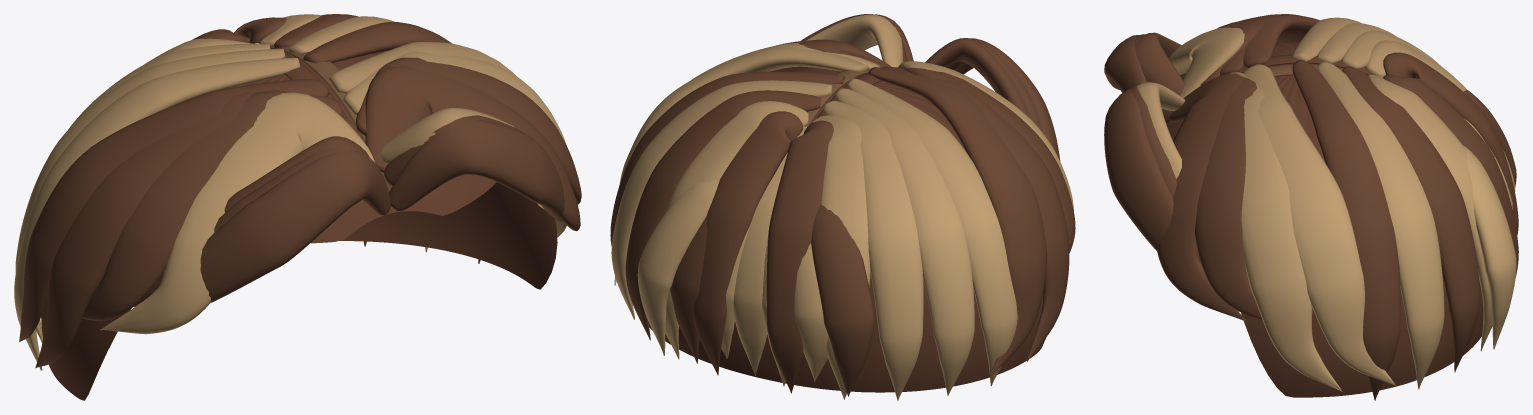
File: Highlights-18289f973b07251-hair.glb
The picture shows the model from 3 angles, left to right: view 1: azimuth 30°, elevation 25°; view 2: azimuth 150°, elevation 25°; view 3: azimuth 270°, elevation 25°; orthographic projection. The views are drawn at different scales.
Parts seen in each view (by area): view 1: 226 hair / Hair / chestnut226.001, 226 hair / Hair / recessed roots251, 226 hair / Hair / main251, 226 hair / Hair / accent251, 226 hair / Hair / recessed roots251.001; view 2: 226 hair / Hair / main251, 226 hair / Hair / accent251, 226 hair / Hair / chestnut226.001, 226 hair / Hair / recessed roots251, 226 hair / Hair / recessed roots251.001; view 3: 226 hair / Hair / chestnut226.001, 226 hair / Hair / main251, 226 hair / Hair / accent251, 226 hair / Hair / recessed roots251, 226 hair / Hair / recessed roots251.001.
Part boxes in pixels (bbox=[...]): 226 hair / Hair / chestnut226.001: bbox=[19, 42, 581, 368]; 226 hair / Hair / recessed roots251: bbox=[41, 51, 557, 400]; 226 hair / Hair / main251: bbox=[14, 14, 480, 370]; 226 hair / Hair / accent251: bbox=[15, 14, 427, 343]; 226 hair / Hair / recessed roots251.001: bbox=[270, 45, 384, 176]; 226 hair / Hair / main251: bbox=[610, 71, 1017, 400]; 226 hair / Hair / accent251: bbox=[611, 80, 974, 399]; 226 hair / Hair / chestnut226.001: bbox=[614, 14, 1075, 377]; 226 hair / Hair / recessed roots251: bbox=[648, 68, 1045, 392]; 226 hair / Hair / recessed roots251.001: bbox=[806, 69, 880, 126]; 226 hair / Hair / chestnut226.001: bbox=[1104, 14, 1395, 391]; 226 hair / Hair / main251: bbox=[1292, 17, 1518, 400]; 226 hair / Hair / accent251: bbox=[1317, 23, 1516, 389]; 226 hair / Hair / recessed roots251: bbox=[1166, 42, 1483, 397]; 226 hair / Hair / recessed roots251.001: bbox=[1171, 54, 1373, 125].
Size of the model in its own units: 1.07 by 0.5895 by 0.8758.
